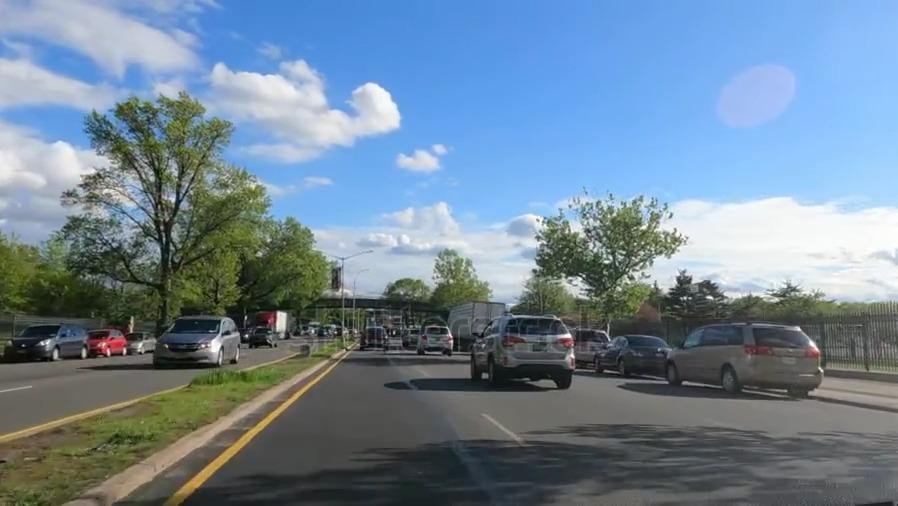car: (672, 325, 823, 397), (468, 316, 575, 381), (157, 317, 238, 362), (605, 329, 666, 377), (2, 326, 89, 359), (567, 324, 604, 369), (418, 326, 453, 354), (87, 331, 123, 355), (129, 331, 150, 352), (362, 329, 385, 348), (249, 329, 274, 345)
